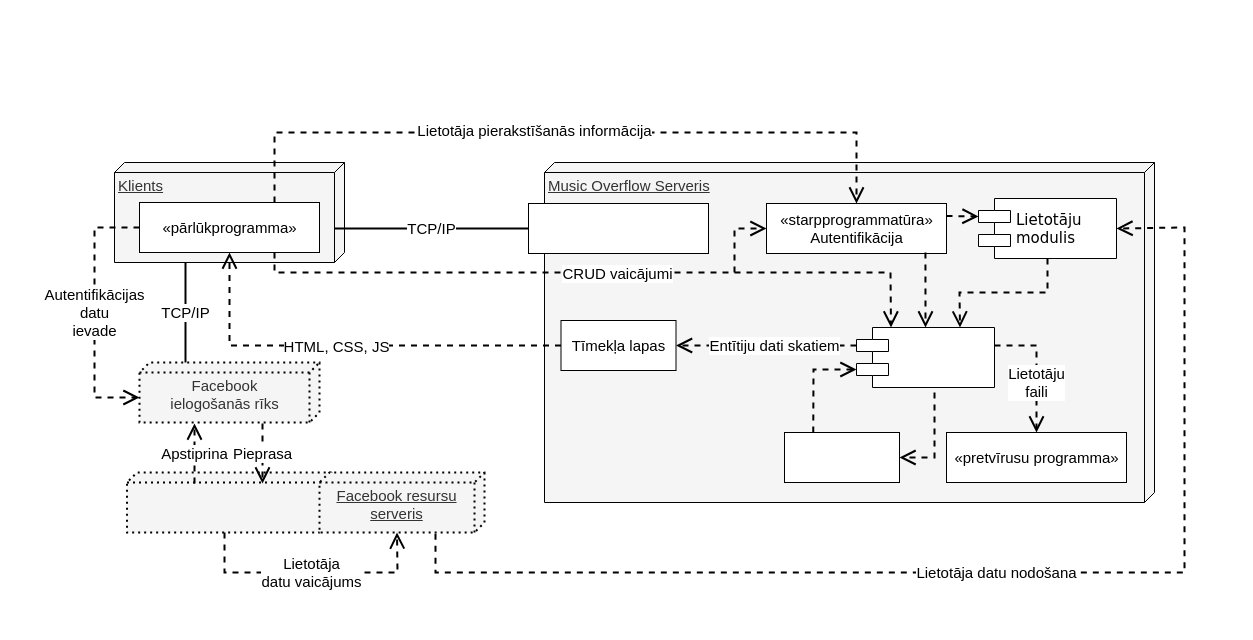
This 1253x640 diagram has some shape labels left out. The shapes that lost their labels are listed below. From the top down, each one's centre as x and y in pixels, then its label:
the point at 618,228: «ugunsmūris»
the point at 925,357: CRUD modulis
the point at 842,457: Datubāze
the point at 229,502: Facebook autenitifikācijas serveris
